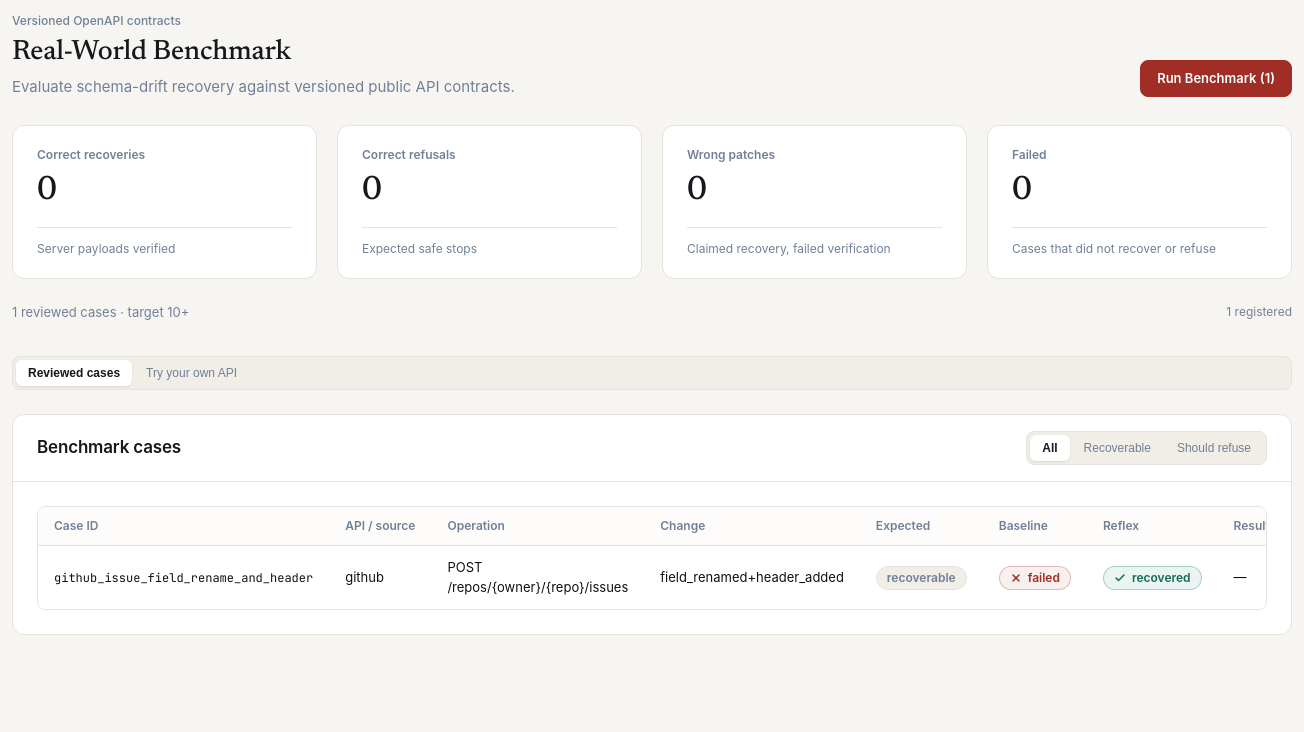
Test: RealWorldPage > Run Benchmark › surfaces a run that finishes with an error instead of only partial data
Click the button "Run Benchmark (1)". click: (1216, 78)
box: [1140,60,1292,97]
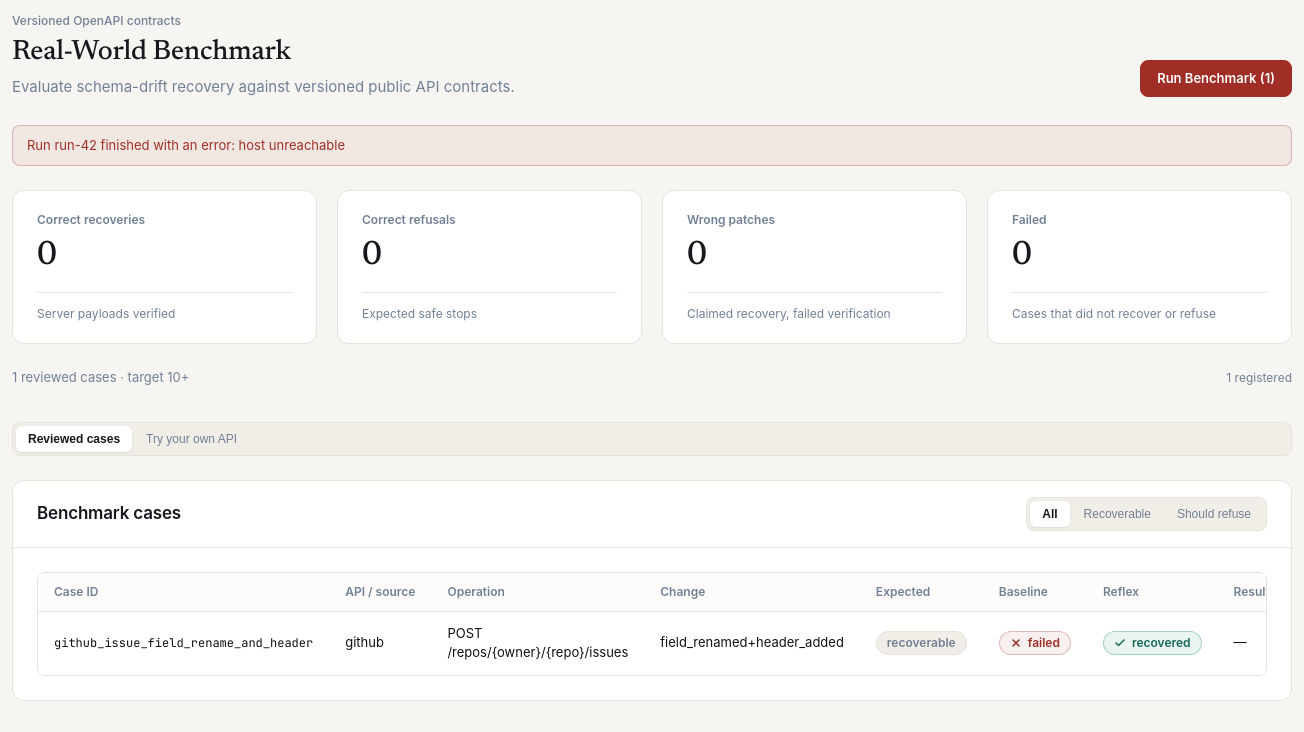
expect the text "Run run-42 finished with an error: host unreachable" is shown: met, box [12,125,1292,166]
